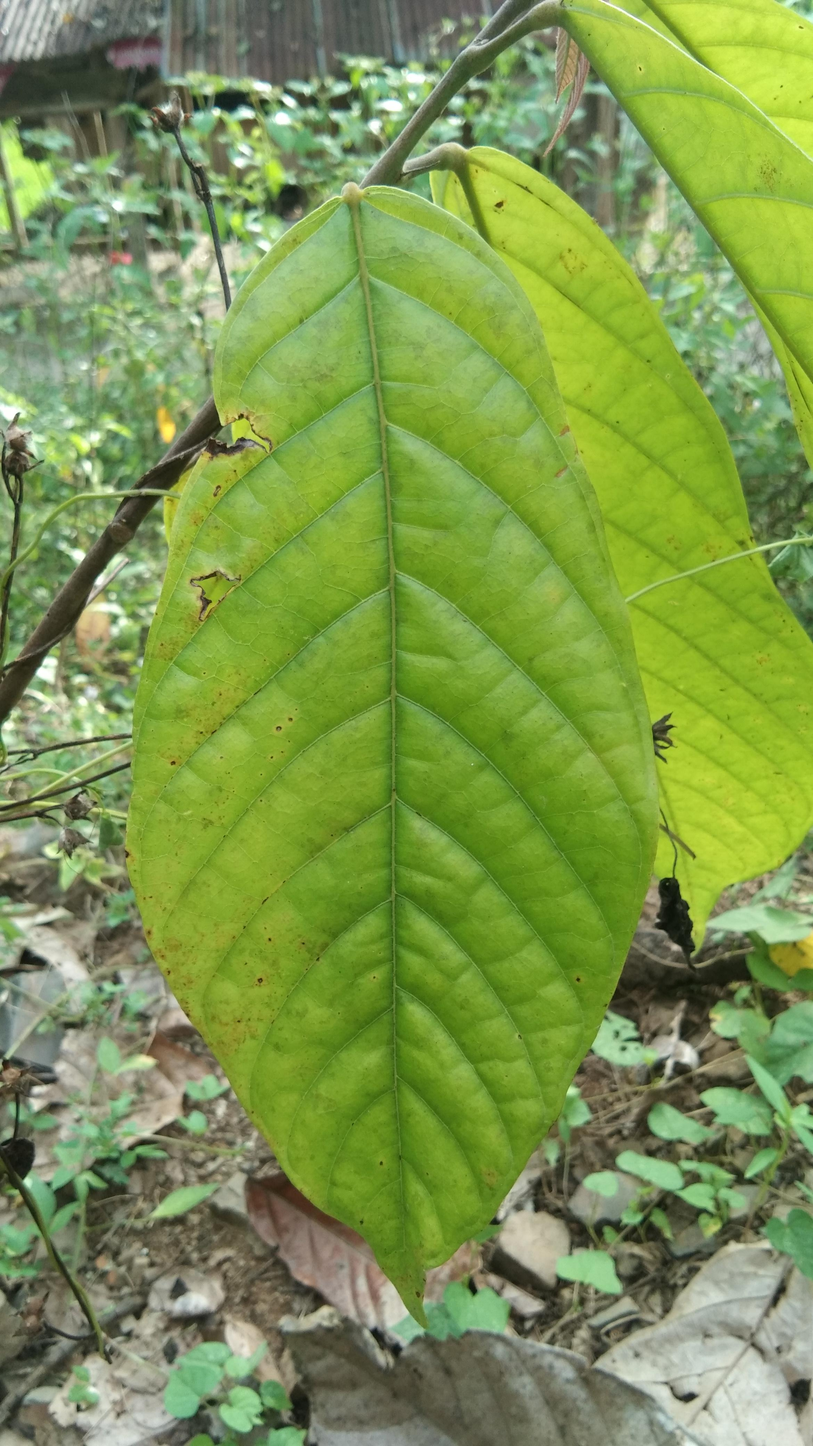deficiencia_potasio: (129, 181, 664, 1324)
